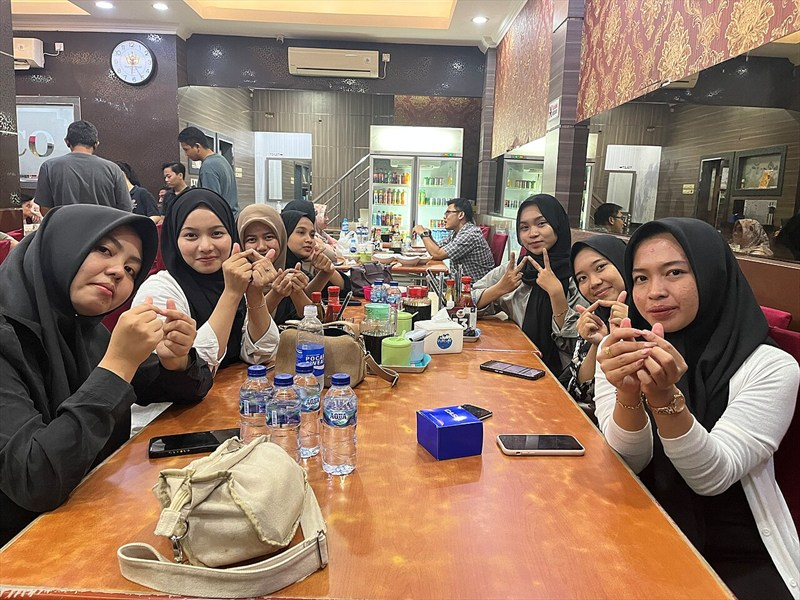Pempek: (82, 129, 708, 496)
